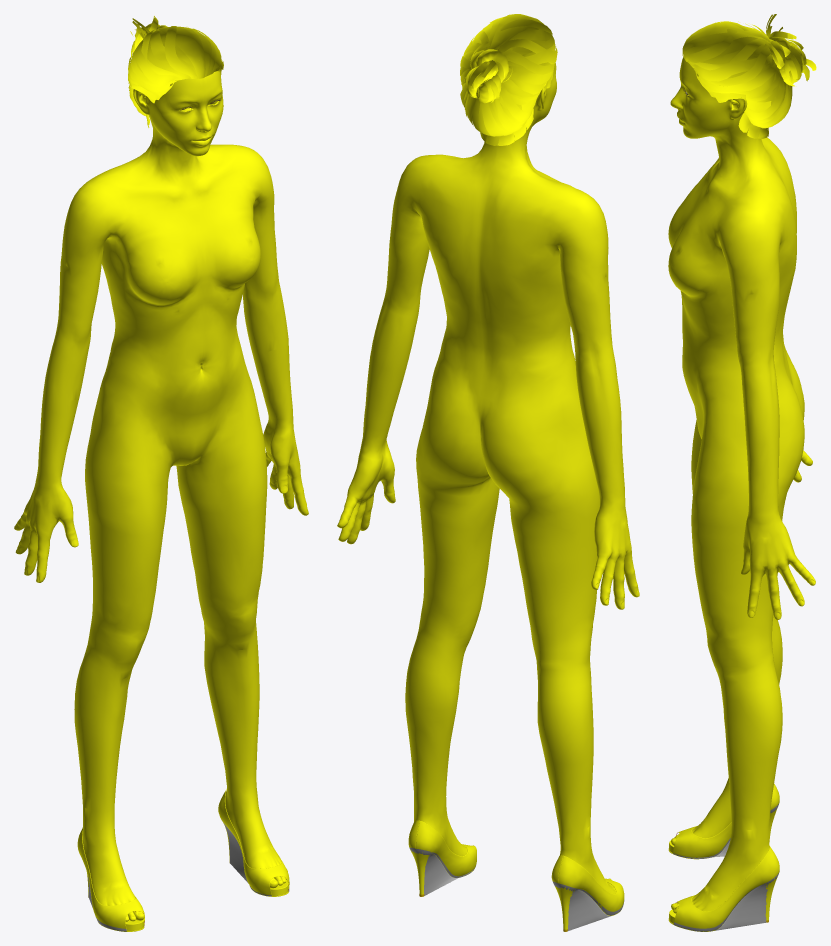
File: maya_inches_toscale.gltf
The picture shows the model from 3 angles, left to right: view 1: azimuth 30°, elevation 25°; view 2: azimuth 150°, elevation 25°; view 3: azimuth 270°, elevation 25°; orthographic projection. The views are drawn at different scales.
Parts seen in each view (by area): view 1: bodyShape_skin_Shape, hair_Shape, shoes_l_Shape, shoes_r_Shape; view 2: bodyShape_skin_Shape, hair_Shape, shoes_r_Shape, shoes_l_Shape; view 3: bodyShape_skin_Shape, hair_Shape, shoes_l_Shape, shoes_r_Shape.
Boxes of the visible parts, left/top/right/bottom form: bodyShape_skin_Shape: left=14, top=71, right=308, bottom=921; hair_Shape: left=128, top=16, right=223, bottom=127; shoes_l_Shape: left=218, top=789, right=289, bottom=896; shoes_r_Shape: left=77, top=827, right=144, bottom=931; bodyShape_skin_Shape: left=337, top=62, right=639, bottom=893; hair_Shape: left=460, top=14, right=557, bottom=145; shoes_r_Shape: left=551, top=855, right=624, bottom=931; shoes_l_Shape: left=408, top=820, right=476, bottom=896; bodyShape_skin_Shape: left=668, top=57, right=815, bottom=913; hair_Shape: left=682, top=14, right=816, bottom=138; shoes_l_Shape: left=668, top=846, right=779, bottom=931; shoes_r_Shape: left=668, top=783, right=779, bottom=859.
Bounding box in the file's own units: 0.2266 × 0.6844 × 0.1065.
Materials: 28 (16 with a texture image).
